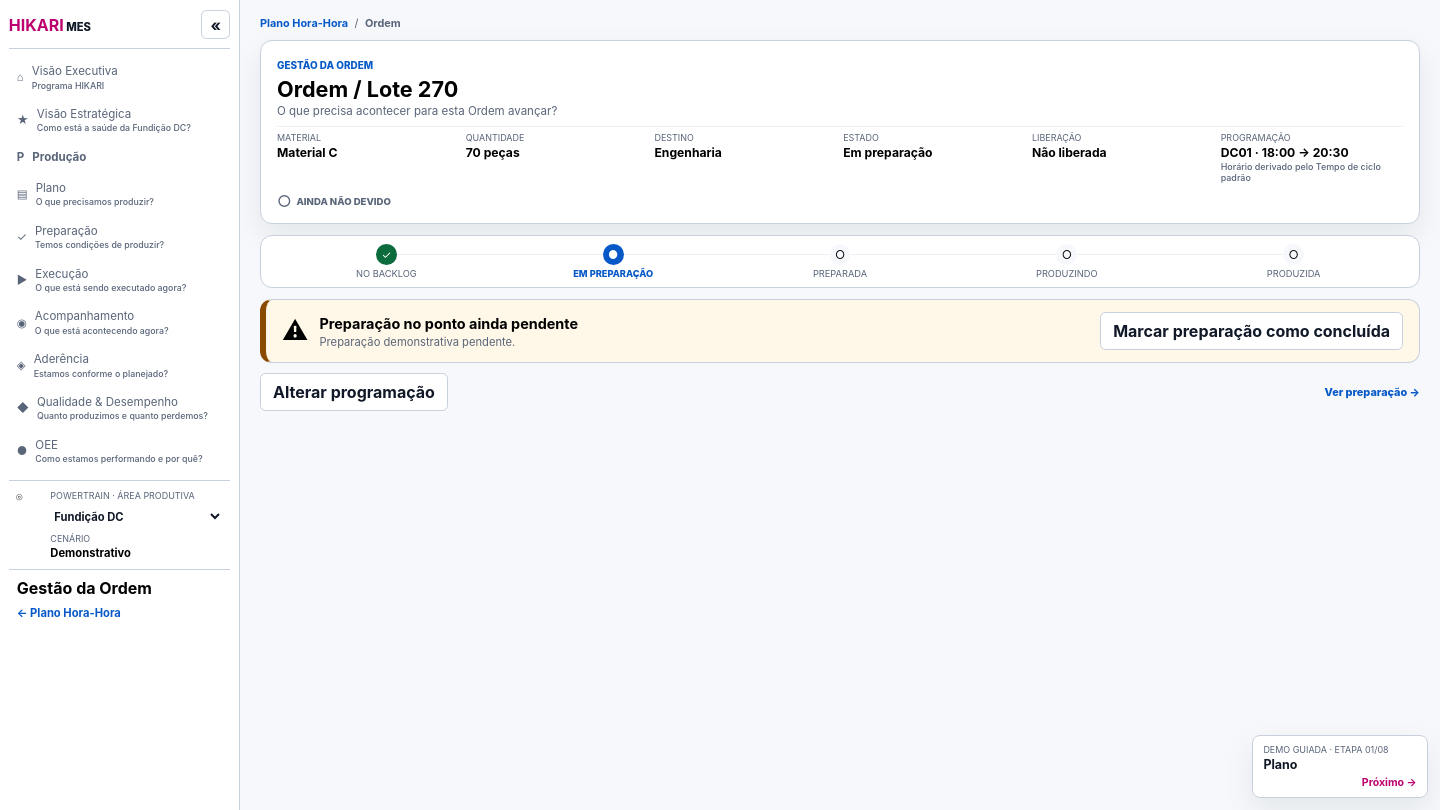
Test: Cena E: reprograms Lote 270 from DC01 to DC04 (its only eligible alternative) with a before/after preview
Click the button "Alterar programação": click(354, 392) [260,373,448,411]
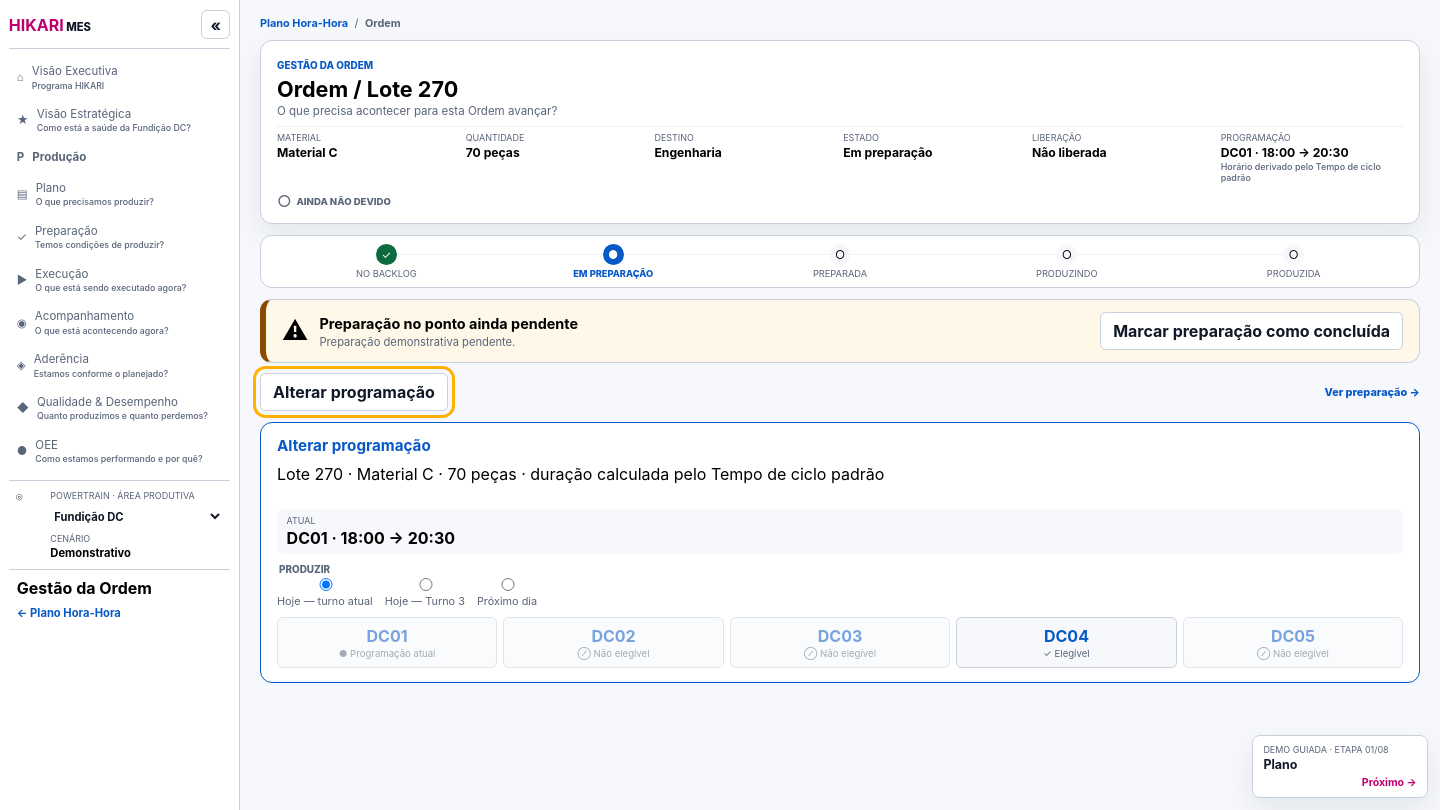
Expected: the button "DC02 ⊘ Não elegível" is disabled, [504,617,724,668]
Expected: the button "DC04 ✓ Elegível" is enabled
Click the button "DC04 ✓ Elegível": click(1066, 642) [956,617,1176,668]
(page scrolled)
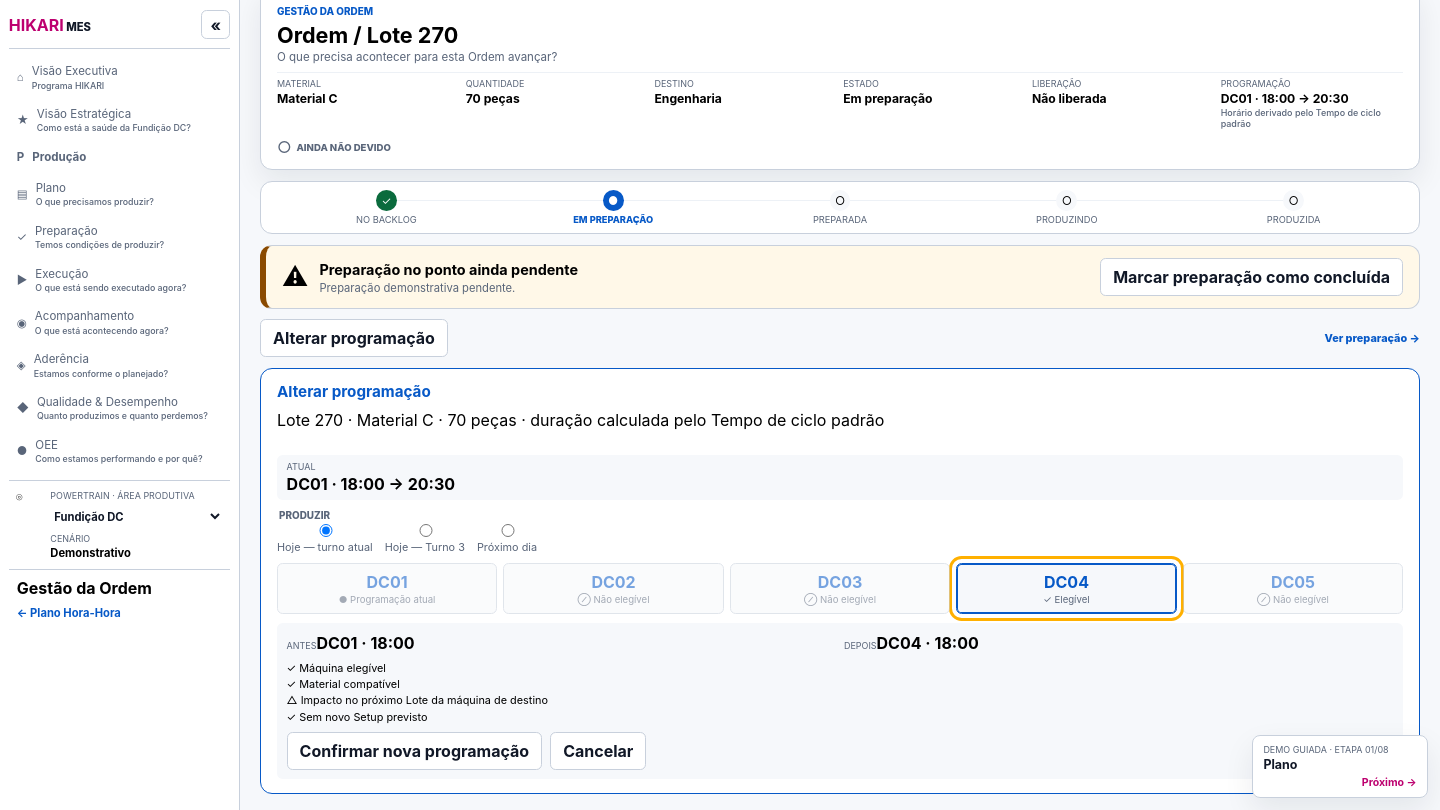
Expected: the element "Alterar programação" shows "ANTES", [287,640,316,651]
Expected: the element "Alterar programação" shows "DEPOIS", [844,640,877,651]
Click the button "Confirmar nova programação": click(414, 751) [287,732,542,770]
(page scrolled)
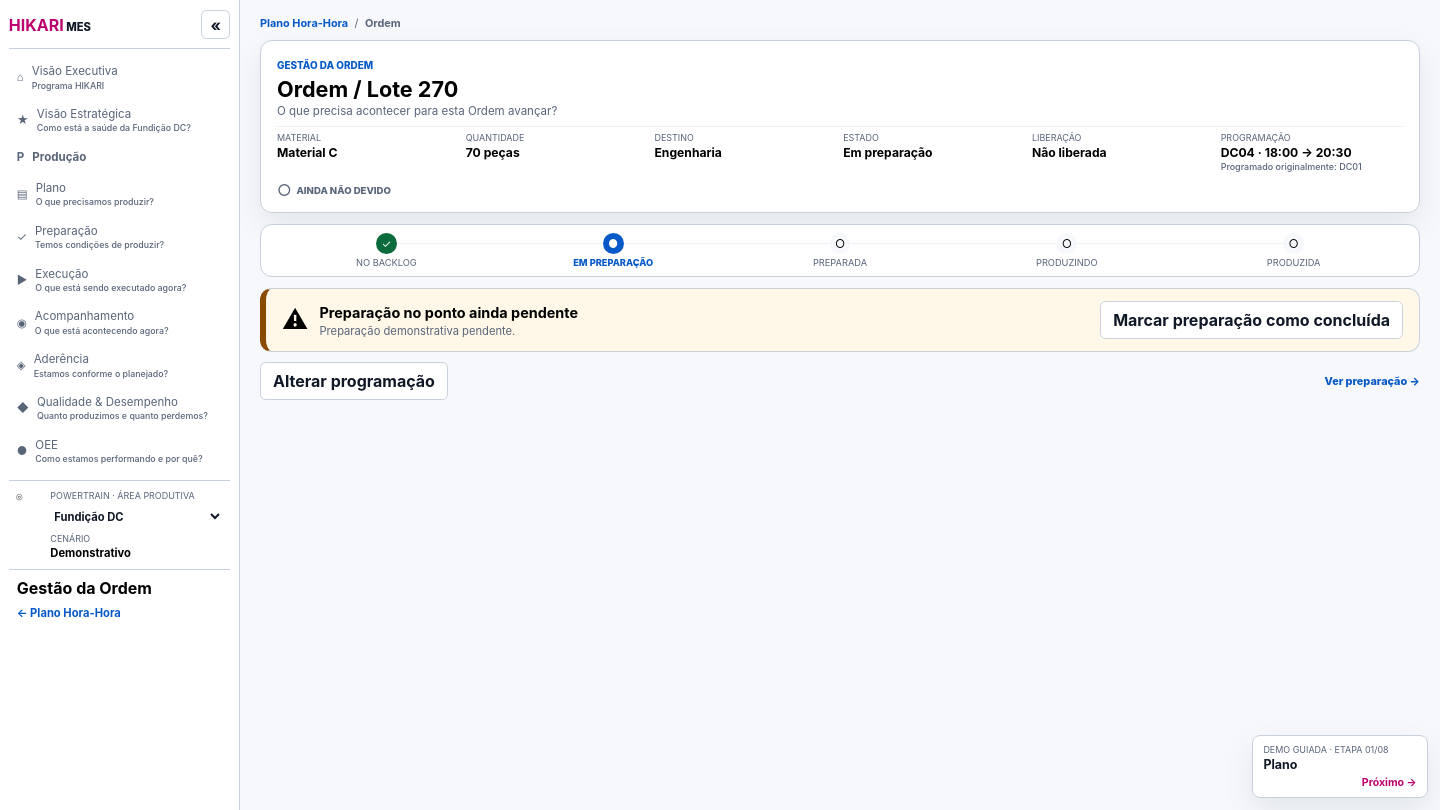
Expected: the text "Material" shows "DC04", [1221,145,1255,160]
Expected: the text "Material" shows "Programado originalmente: DC01", [277,126,1403,172]
